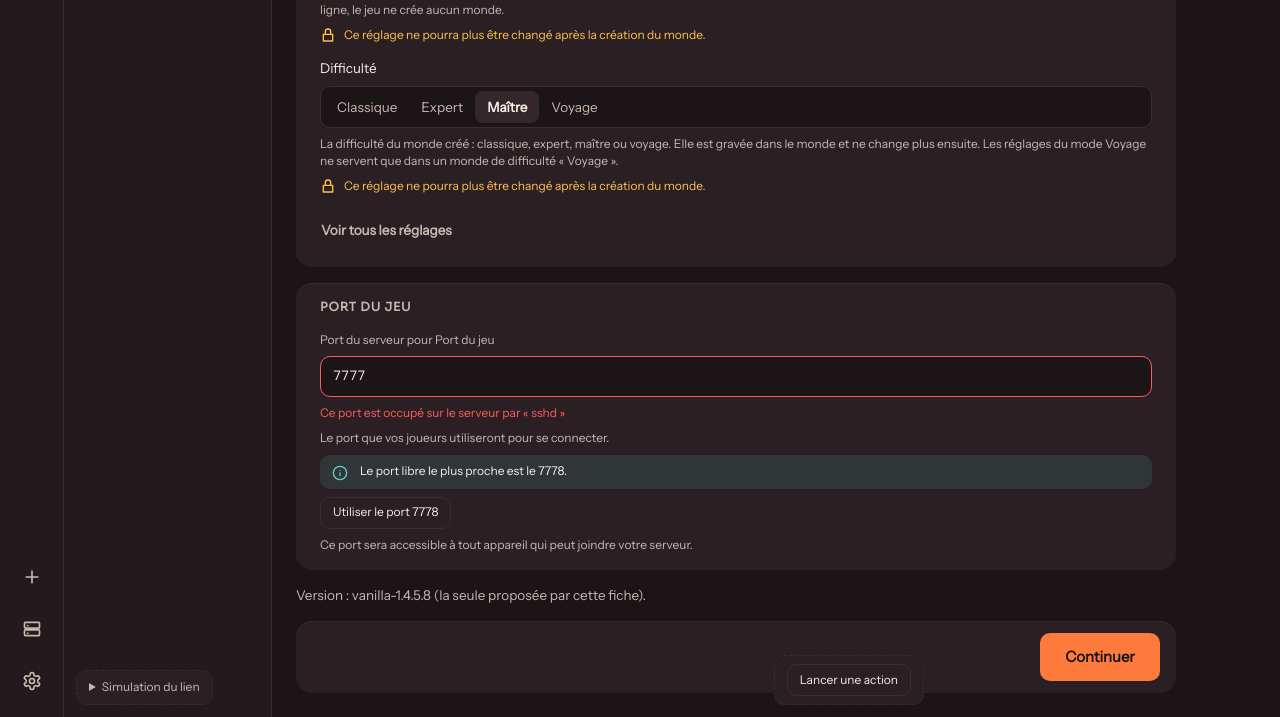
Test: les défauts de forme, jugés sur la fiche › vérifie le port auprès de l'agent et propose le port libre le plus proche
The width and height of the screenshot is (1280, 717).
(page scrolled)
Expected: the element that starts with "Port du serveur pour Port du jeu" shows "occupé sur le serveur par « sshd »", [320,405,565,420]
Expected: the message "Le port libre le plus proche est le 7778." is shown, [320,455,1152,489]
Click the button "Utiliser le port 7778".
click(386, 513)  # box [320,497,451,529]
Wait 450 ms
(page scrolled)
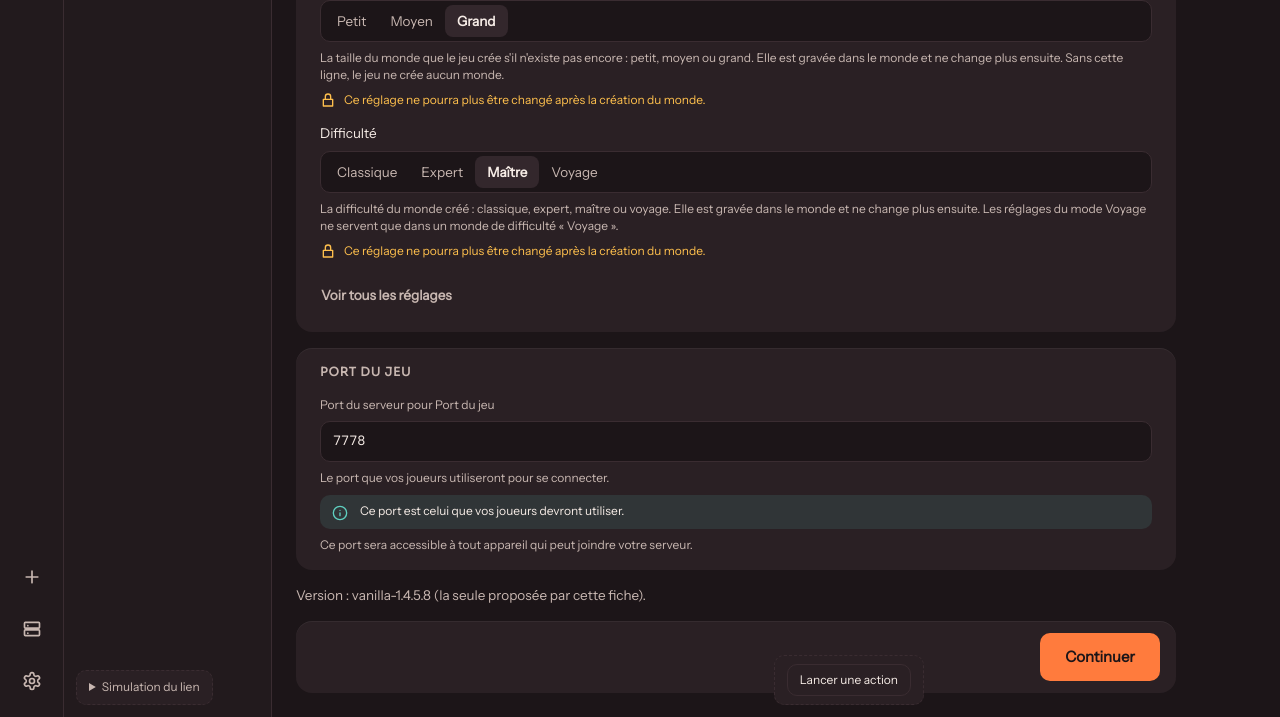
Now the field labelled "Port du serveur pour Port du jeu" holds "7778", box [321,422,1151,461]
Now the message "Ce port est celui que vos joueurs devront utiliser." is shown, box [320,495,1152,529]
